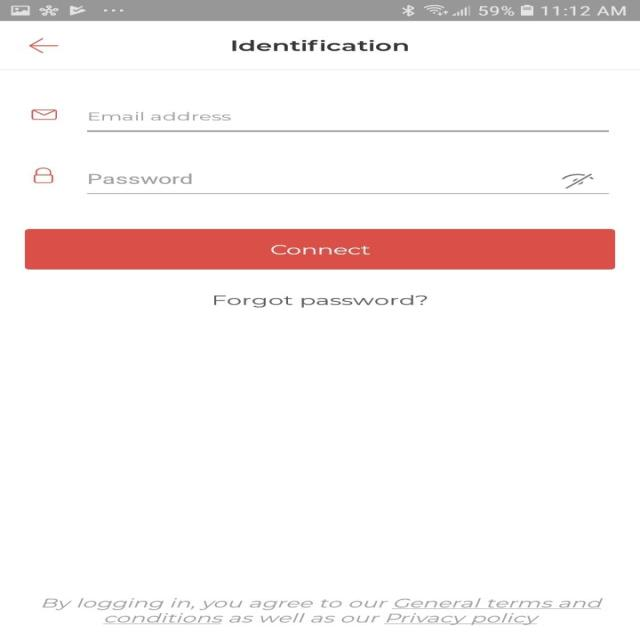EditText: (86, 111, 609, 133), (86, 173, 608, 194)
Icon: (561, 173, 595, 189), (28, 38, 58, 53), (32, 168, 54, 183), (31, 108, 58, 120)
Text: (41, 597, 602, 625), (213, 294, 428, 308), (231, 39, 408, 52), (88, 111, 231, 121), (88, 173, 192, 184)
TextButton: (25, 228, 615, 270)
